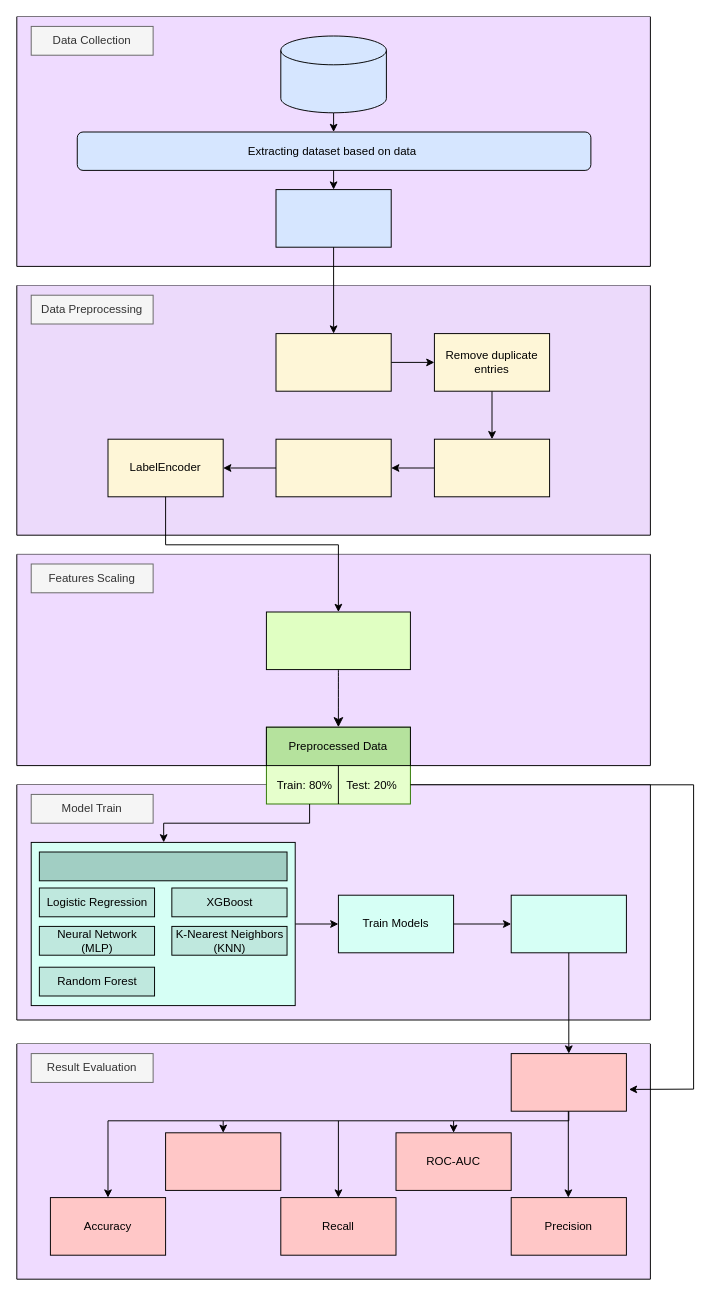
Image size: 718x1296. Some labels were removed from this diagram. Each missing label, with the centre of its shape:
Cap outlier: [333,362]
cardiovascular disease: [333,218]
Categorical Encoding: [491,467]
Classifiers: [162,866]
Data Source: [333,74]
F1-score: [223,1161]
Hyperparameter Tuning: [568,923]
optimized models: [568,1082]
SimpleImputer: [333,467]
Standardization: [337,640]
